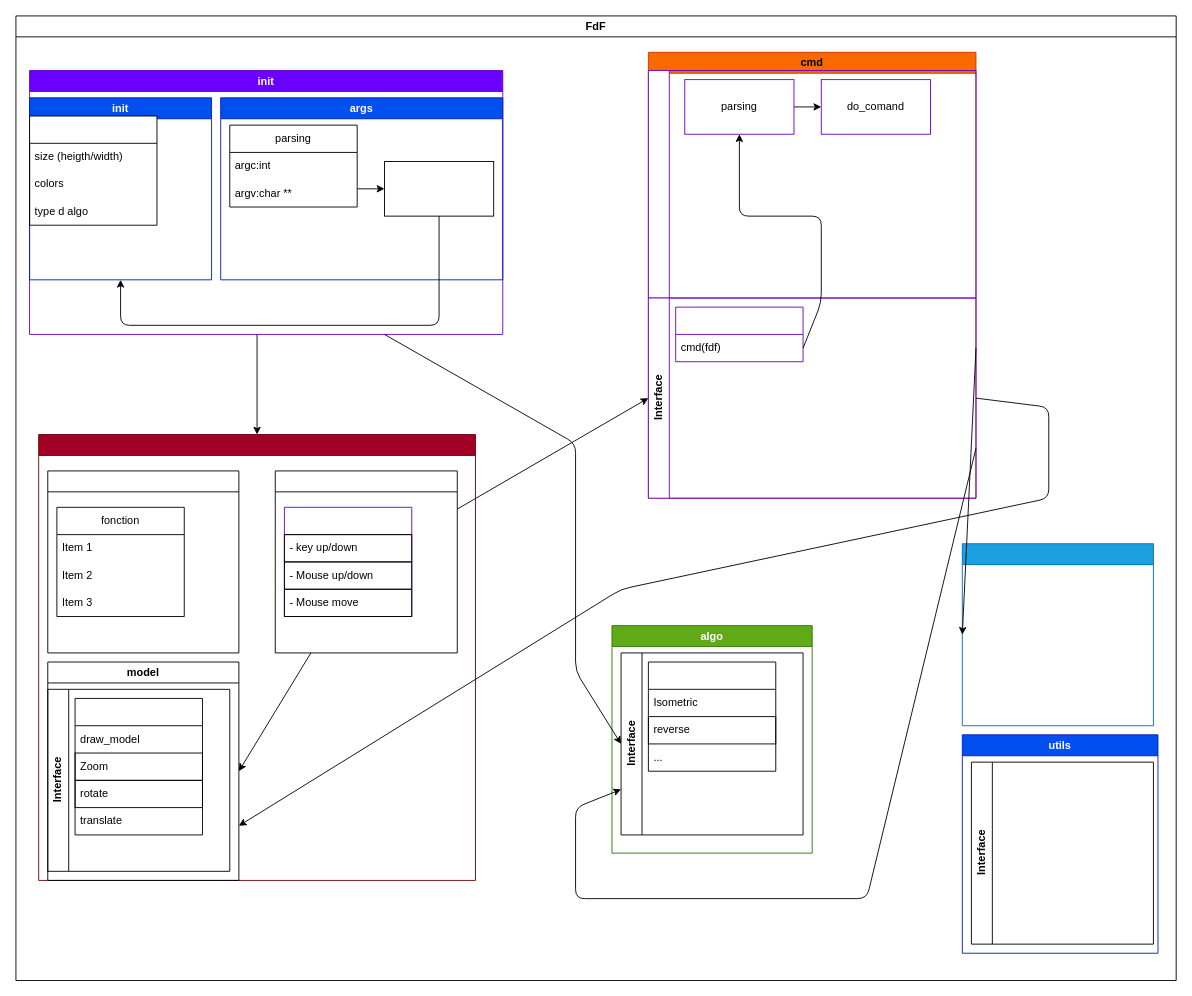
The diagram is 1192 pixels wide and 996 high, and some of its shapes have lost their labels. The shapes that lost their labels are listed below. From the top down, each one's box as (x1, y1, x2, y2) in pixels, then its label:
(29, 115, 157, 225): List
(384, 161, 494, 216): t_args
(647, 70, 976, 298): Internal
(675, 306, 803, 362): cmd_interface
(47, 470, 239, 653): window
(283, 506, 412, 617): Hooks
(274, 470, 457, 653): HookProc
(961, 543, 1153, 726): debug
(38, 434, 475, 880): graphic
(647, 661, 776, 771): Differente algo
(74, 698, 202, 835): Function
